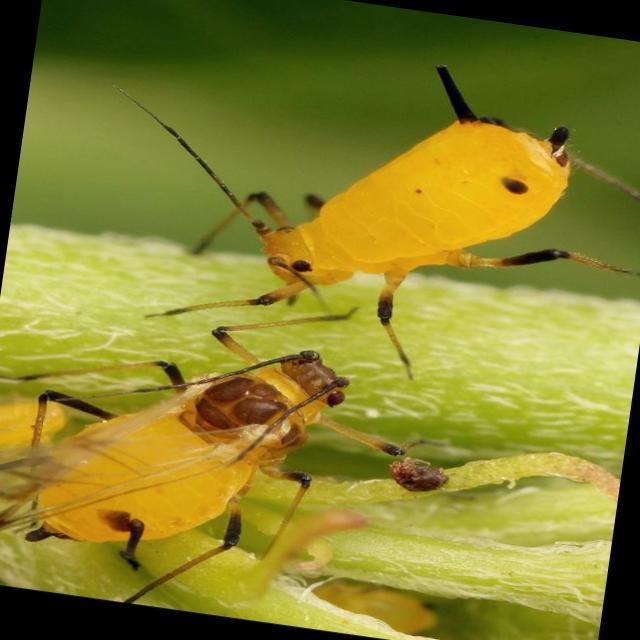aphid: (0, 287, 448, 638), (154, 49, 630, 379)
